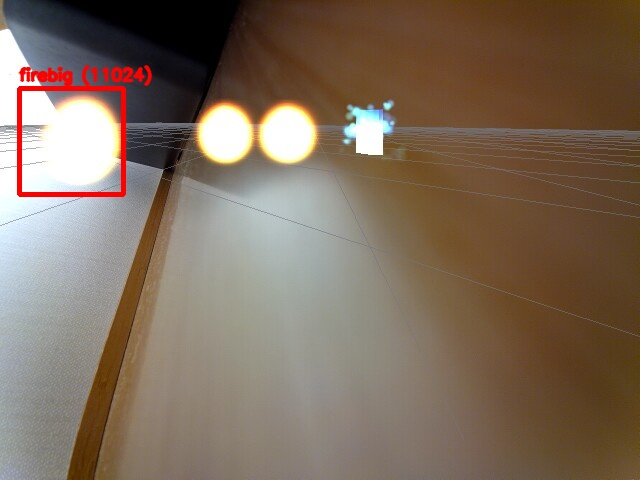firebig: (19, 88, 123, 194)
